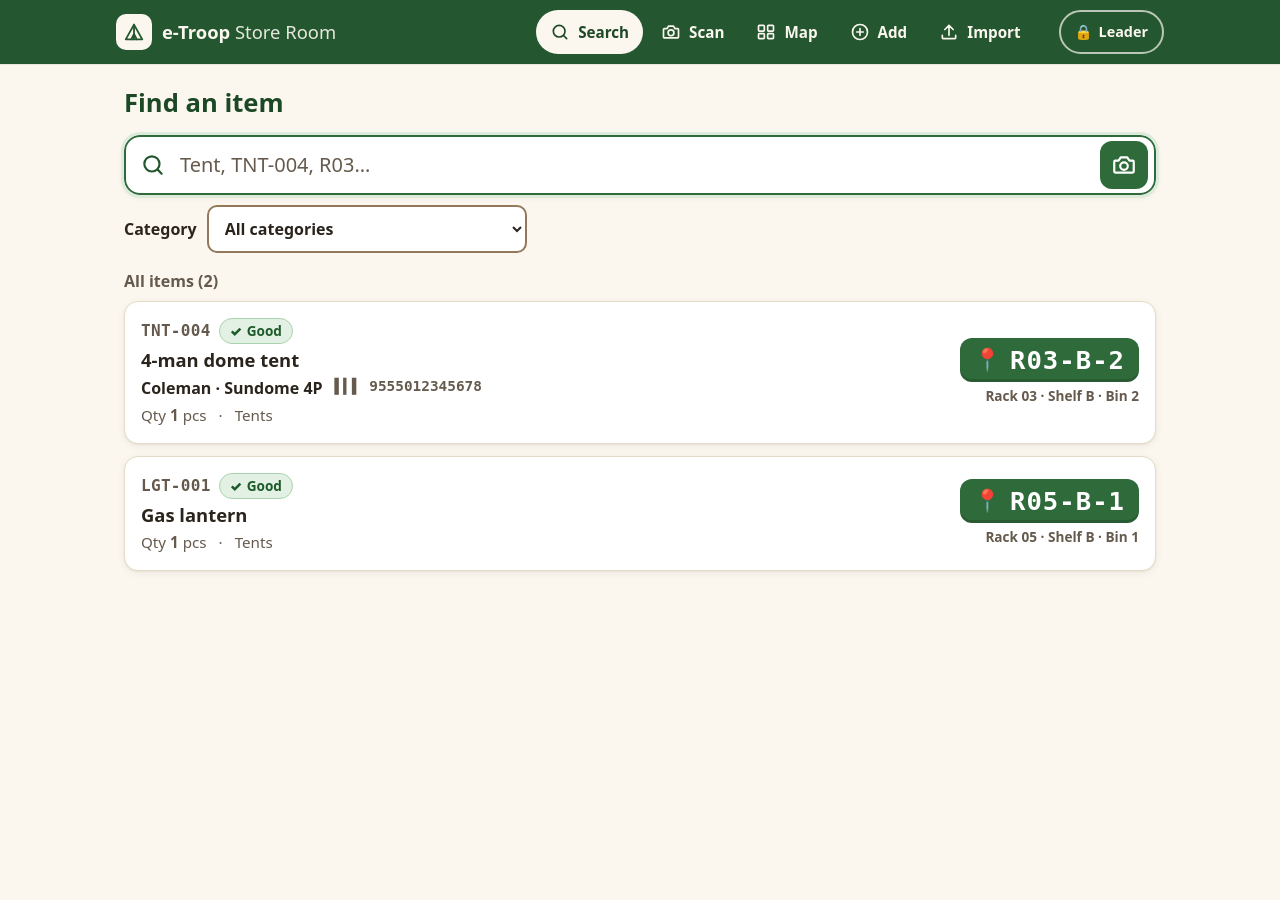
leader mode: every gated action, locked → PIN → action continues › Add tab
Click the link "Add". click: point(878, 32)
box: 850,22 -> 907,42
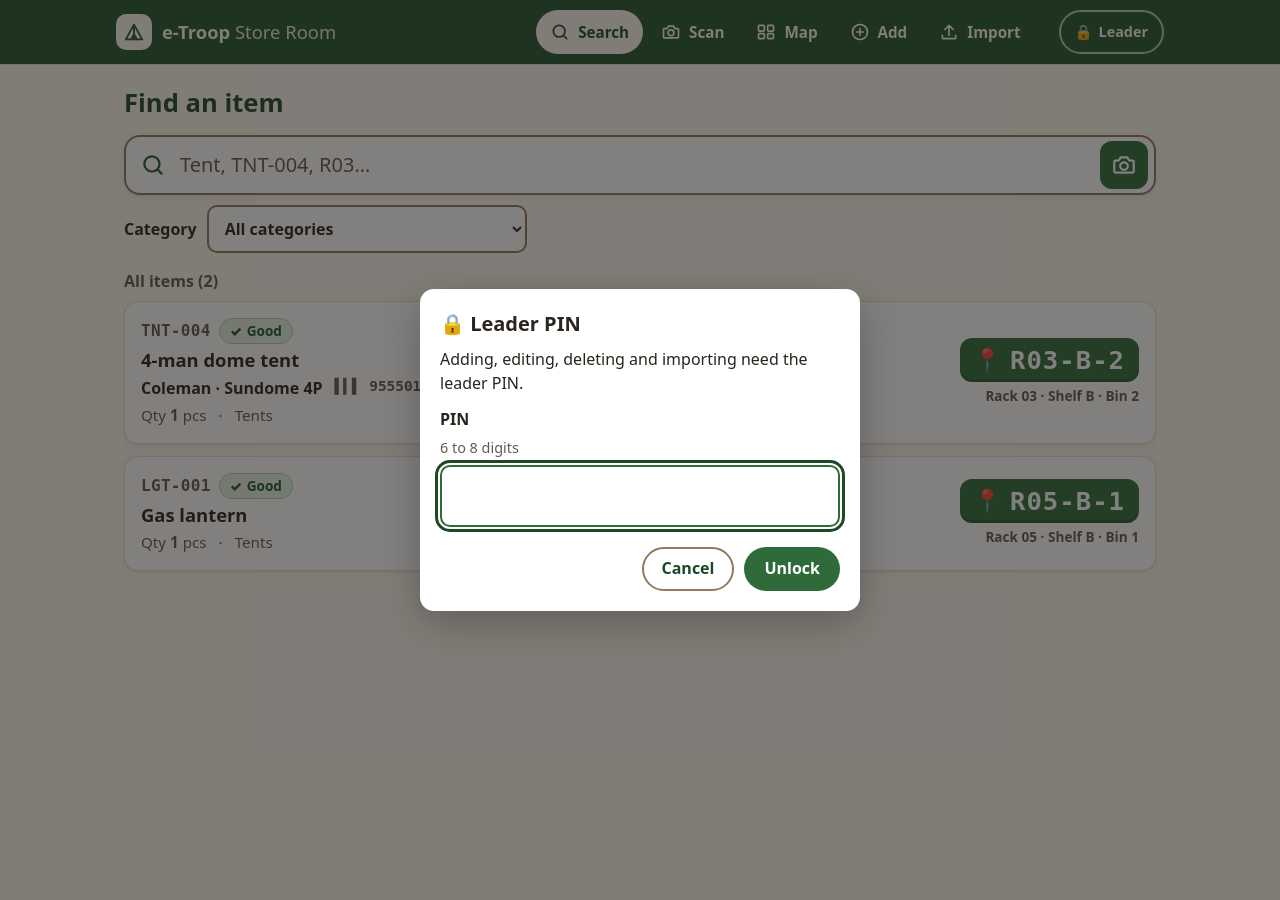
Type "246810" into the password field labelled "PIN". click: point(640, 496)
box: 440,465 -> 840,527
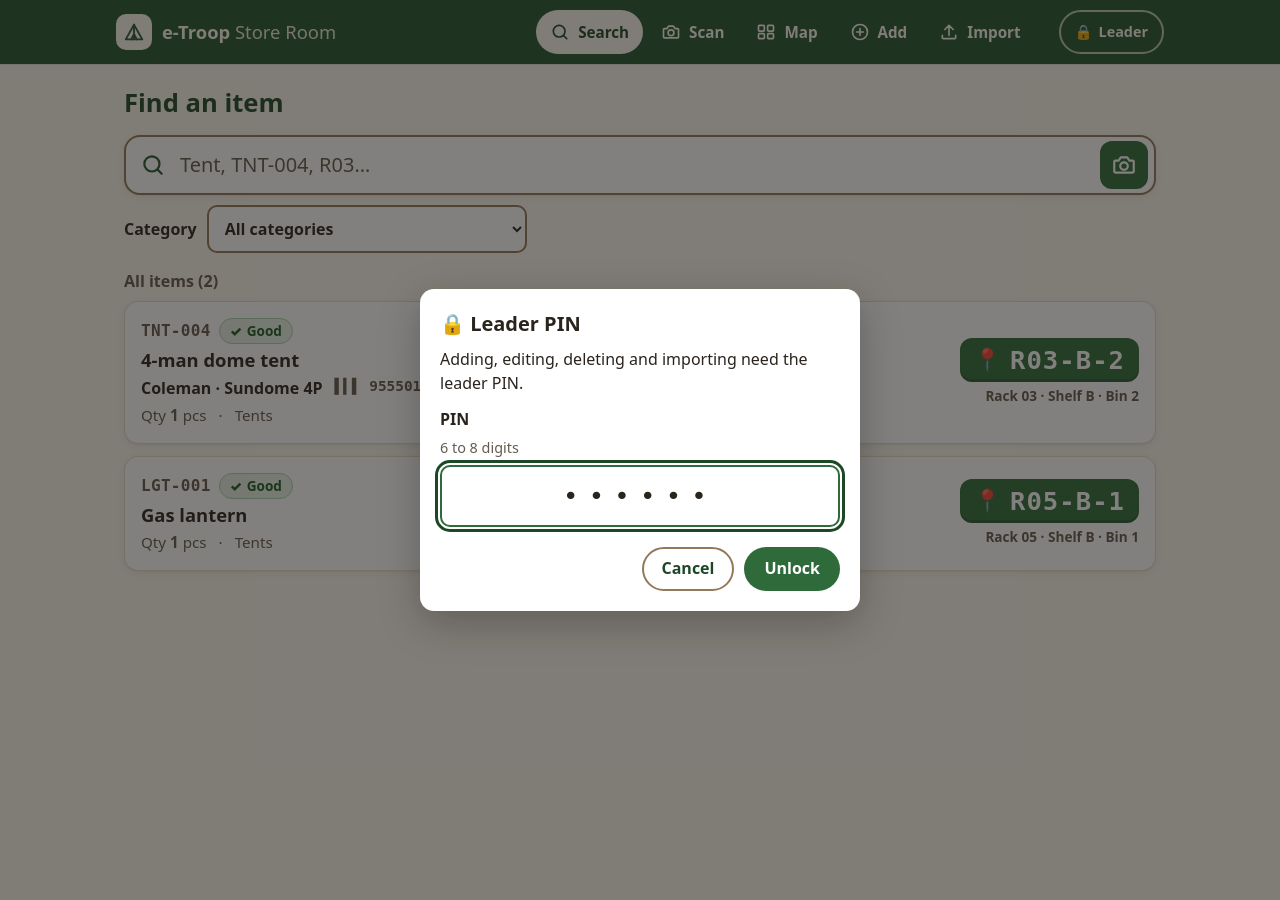
Click the button "Unlock". click: point(792, 569)
box: 744,547 -> 840,591
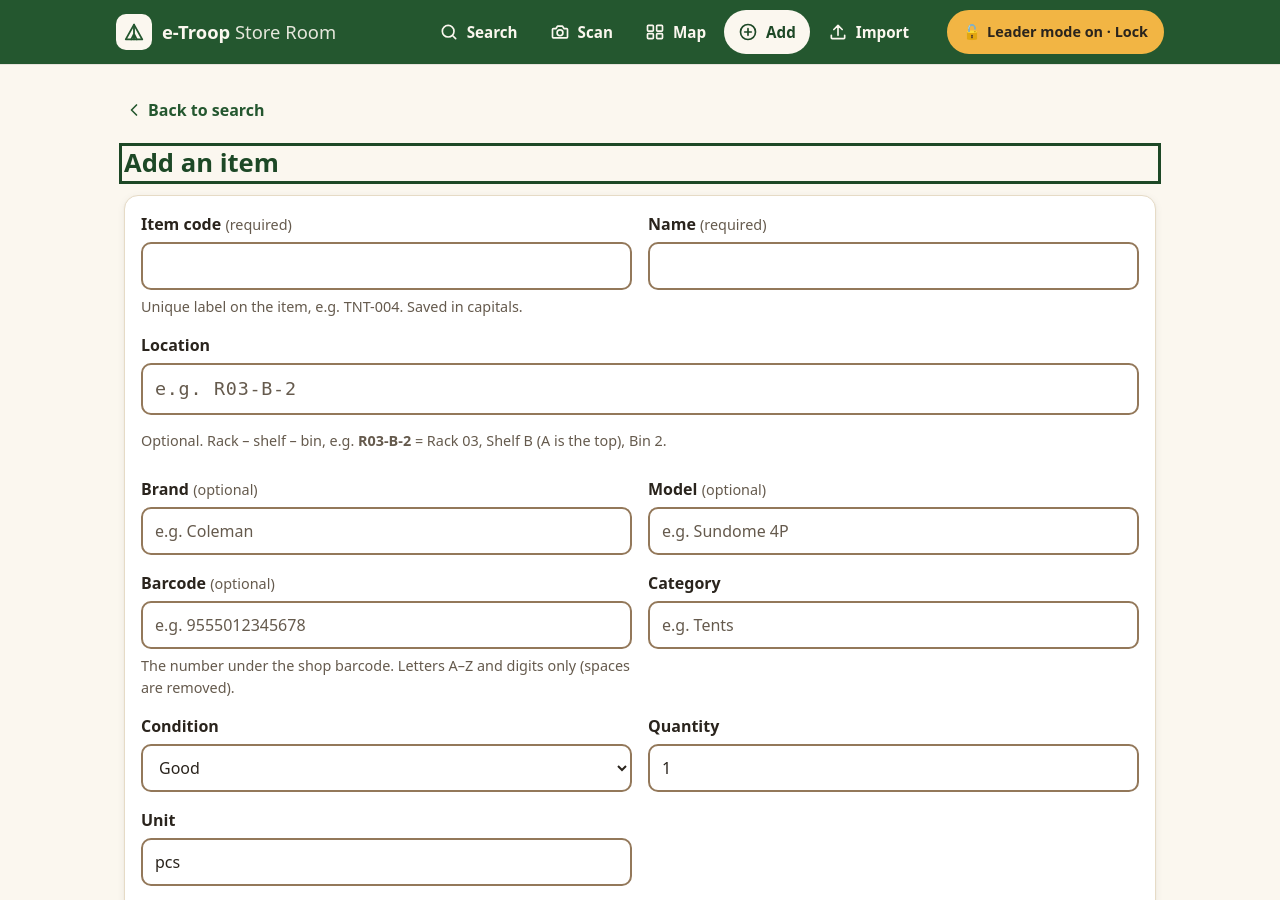
Expected: the heading "Add an item" is shown, 124,145 -> 279,180
